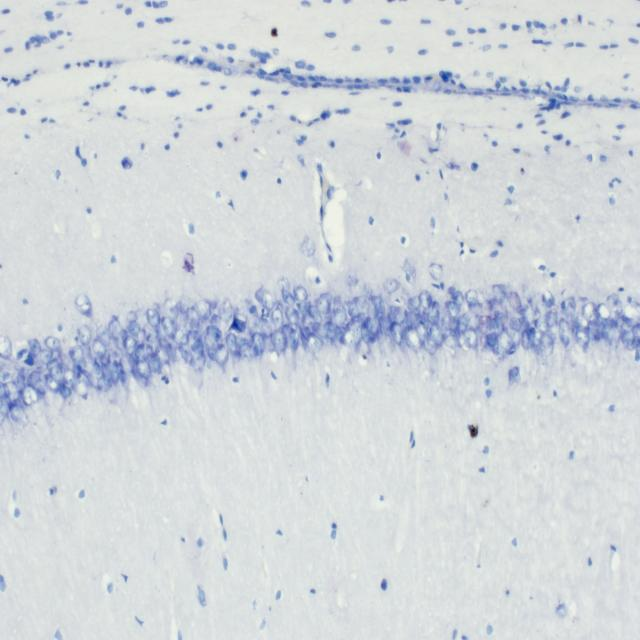neuron: (255, 286, 277, 311), (74, 294, 92, 318), (205, 332, 219, 362), (270, 329, 287, 353), (539, 332, 554, 359), (607, 293, 622, 320), (405, 326, 421, 351), (72, 376, 89, 399), (173, 324, 190, 346), (307, 332, 324, 354), (155, 342, 171, 365), (68, 344, 86, 364), (247, 314, 262, 338), (494, 310, 509, 334), (620, 323, 635, 347), (3, 381, 20, 402), (163, 298, 179, 320), (332, 303, 348, 325), (492, 284, 508, 306), (146, 308, 160, 333), (219, 298, 232, 324), (23, 385, 39, 406), (106, 361, 120, 385), (196, 298, 212, 319), (216, 344, 230, 368), (95, 324, 110, 346), (136, 358, 151, 380), (390, 321, 403, 346), (313, 297, 331, 315), (134, 343, 153, 360), (464, 327, 478, 350), (8, 402, 24, 422), (49, 364, 65, 384), (442, 328, 458, 348), (146, 352, 161, 373), (186, 306, 201, 327), (507, 291, 522, 312), (0, 333, 12, 359), (78, 324, 92, 346), (161, 316, 175, 338), (252, 332, 266, 354), (562, 297, 576, 319), (582, 302, 596, 324), (44, 335, 61, 353), (574, 330, 590, 349), (428, 325, 443, 345), (428, 301, 440, 326), (478, 314, 493, 334), (92, 338, 106, 359), (418, 289, 432, 310), (536, 315, 550, 336), (44, 374, 60, 392), (101, 362, 113, 386), (444, 300, 460, 318), (108, 319, 122, 339), (365, 316, 379, 336), (510, 317, 530, 331), (559, 318, 569, 346), (596, 302, 610, 322), (226, 332, 238, 355), (259, 318, 272, 339), (323, 321, 336, 342), (383, 278, 400, 294), (542, 289, 556, 308), (416, 320, 428, 342), (124, 336, 138, 354), (285, 306, 299, 324), (308, 304, 322, 322), (354, 296, 368, 314), (407, 295, 421, 313), (465, 288, 479, 306), (288, 327, 299, 349), (272, 308, 283, 330), (26, 370, 41, 386), (62, 366, 74, 386), (97, 376, 113, 391), (425, 334, 437, 354), (294, 286, 308, 303), (282, 288, 295, 306), (29, 338, 41, 357), (39, 349, 54, 364), (429, 263, 443, 279), (450, 290, 464, 306), (127, 319, 140, 336), (238, 347, 252, 362), (489, 317, 500, 336), (456, 317, 468, 334), (486, 331, 498, 348), (59, 384, 72, 399), (46, 357, 58, 373), (442, 310, 452, 329), (360, 324, 370, 342), (347, 301, 358, 317), (296, 303, 307, 318), (0, 399, 10, 415), (522, 330, 530, 350), (137, 328, 146, 344), (602, 324, 610, 342), (127, 310, 138, 323), (93, 362, 101, 376)
